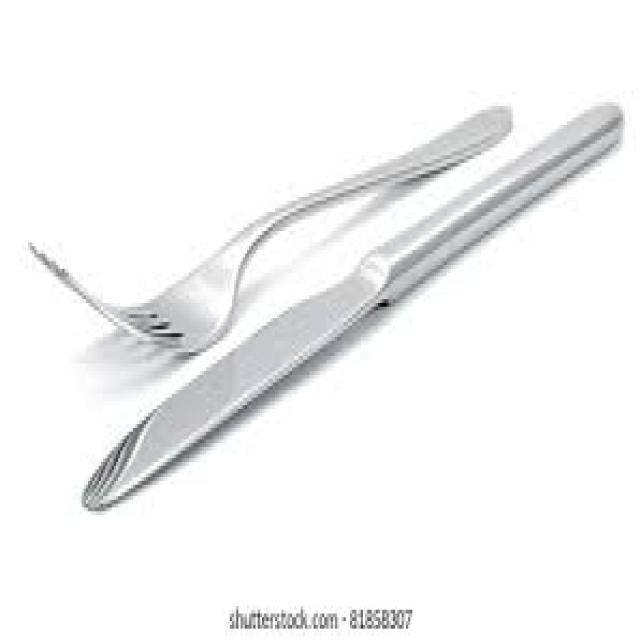Knife: (79, 95, 623, 511), (26, 98, 513, 356)
